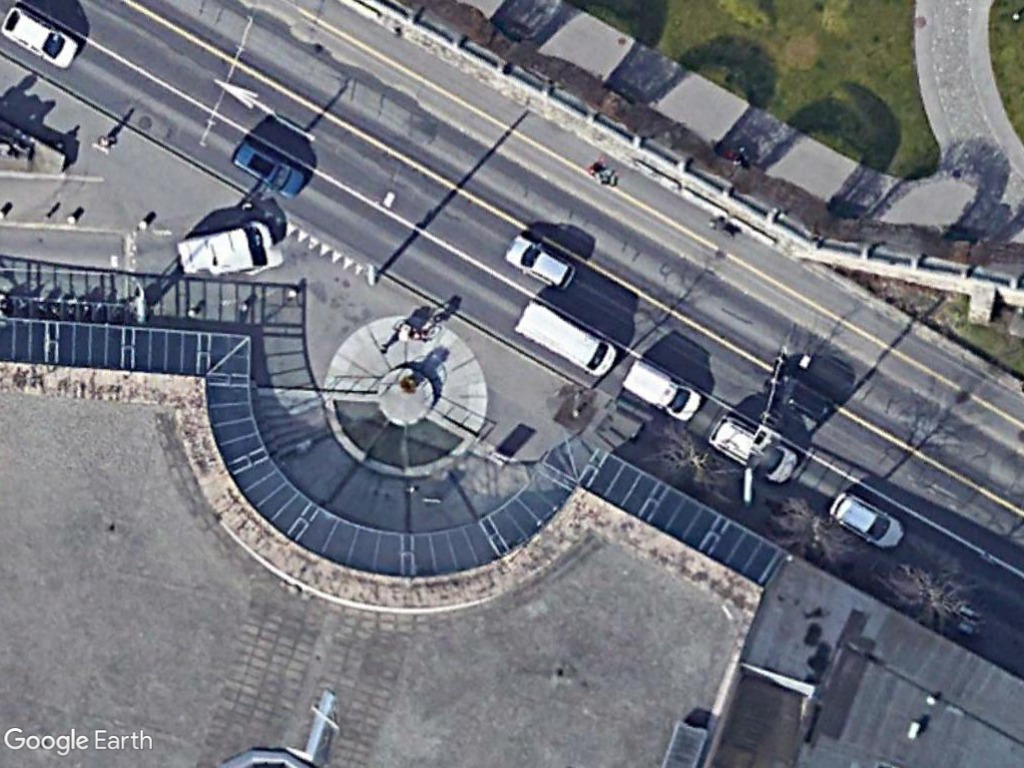car: (705, 408, 802, 486), (0, 2, 81, 70), (827, 486, 907, 553), (230, 141, 307, 199), (500, 234, 578, 290)
van: (512, 299, 618, 377), (175, 219, 276, 283), (617, 360, 701, 424)
